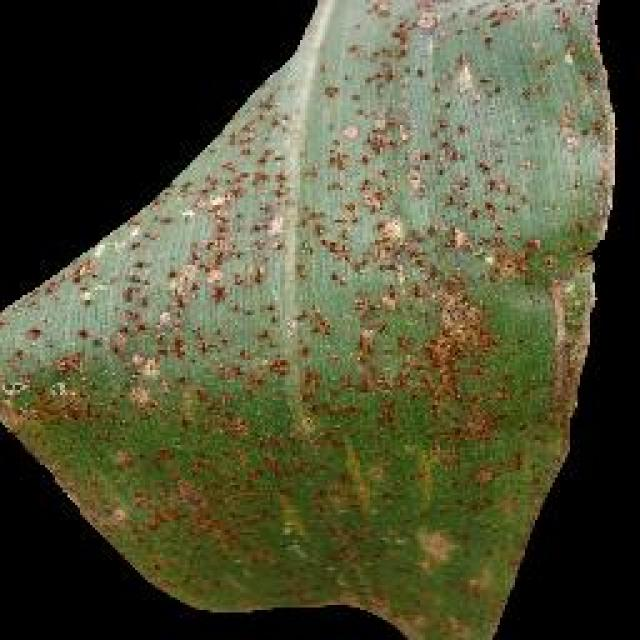Corn___Common_rust: (125, 1, 592, 598)
